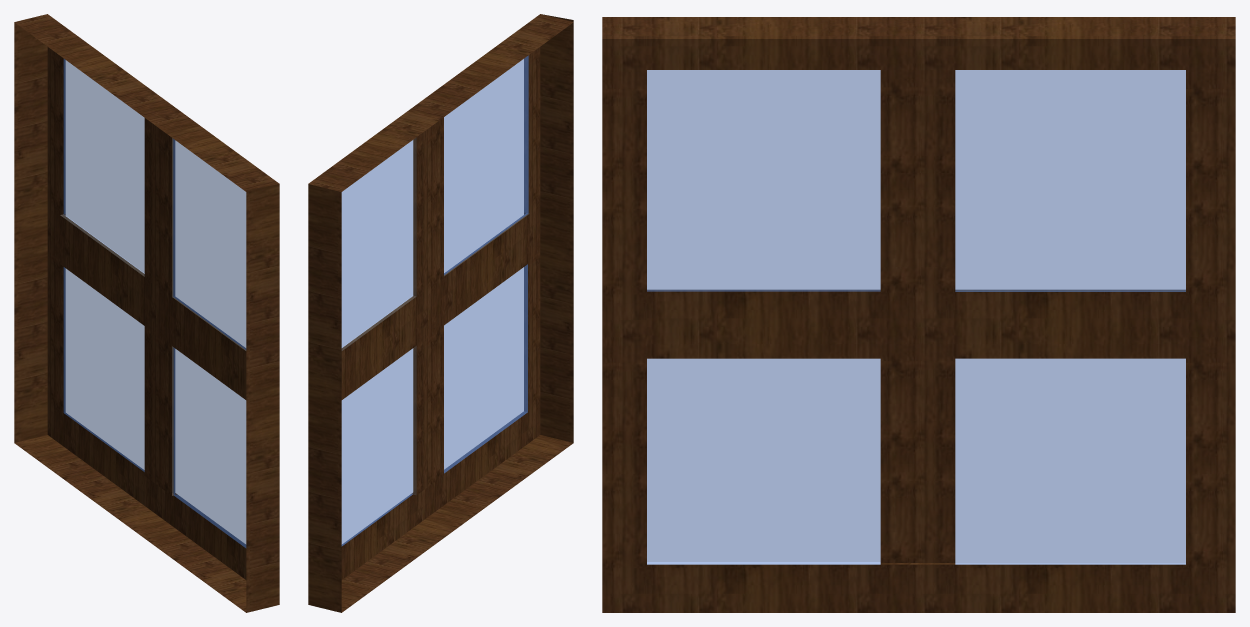
The picture shows the model from 3 angles, left to right: view 1: azimuth 30°, elevation 25°; view 2: azimuth 150°, elevation 25°; view 3: azimuth 270°, elevation 25°; orthographic projection. The views are drawn at different scales.
Parts seen in each view (by area): view 1: Mesh1_Model; view 2: Mesh1_Model; view 3: Mesh1_Model.
Part boxes in pixels (x1,y1,x2,y2): Mesh1_Model: [14, 14, 279, 612]; Mesh1_Model: [308, 14, 573, 612]; Mesh1_Model: [602, 17, 1235, 612].
Size of the model in its own units: 0.1064 by 1.28 by 1.28.
